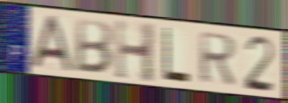2: (243, 35, 276, 95)
A: (29, 14, 74, 73)
B: (73, 16, 115, 76)
H: (114, 17, 157, 85)
L: (162, 25, 191, 85)
R: (198, 31, 239, 87)
